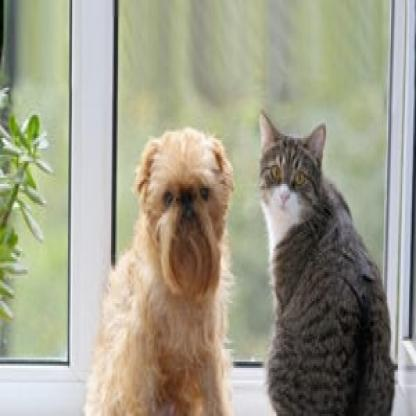cat: (252, 107, 400, 414)
dog: (82, 123, 240, 414)
